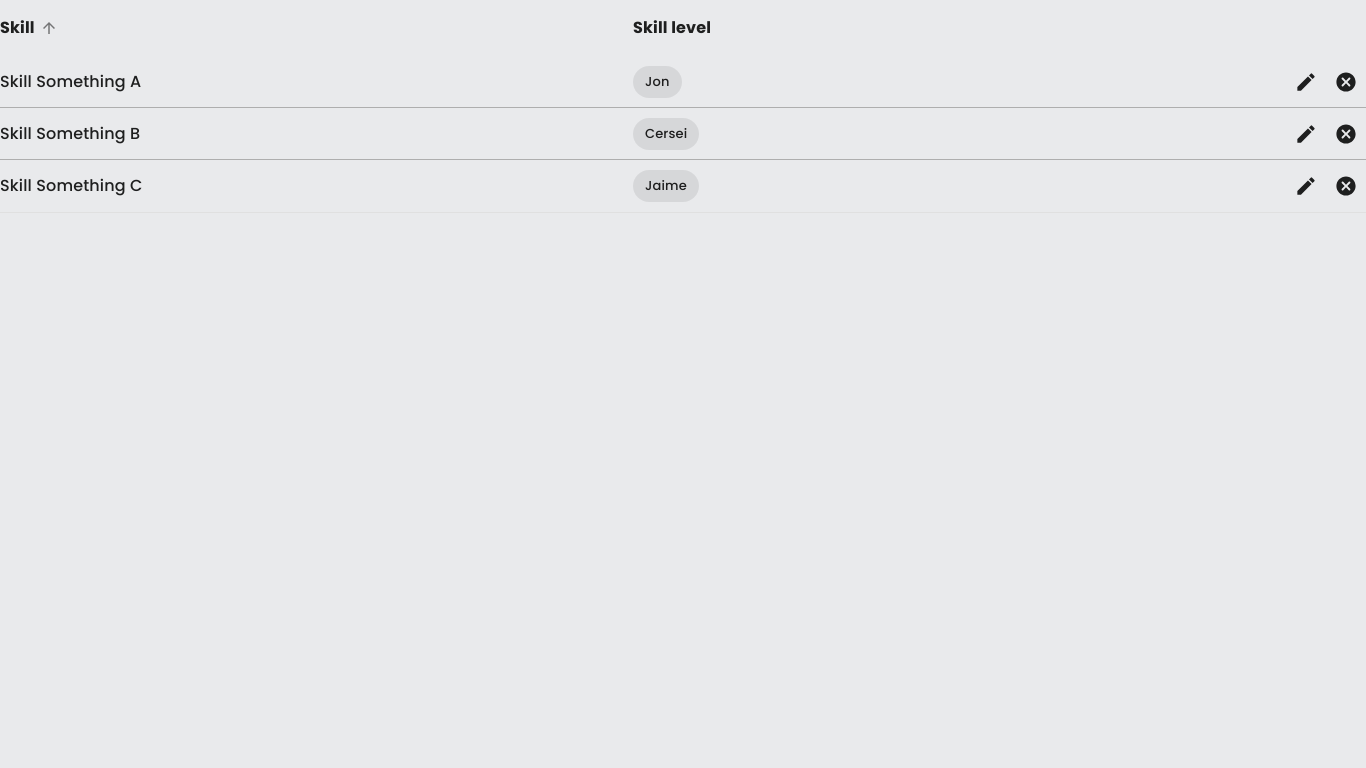
it: SkillsList › on deleting › successfully removes
Expected: the text "Skill Something A" is shown, [0,70,141,94]
Expected: the button with test id "delete-button-test2" is shown, [1334,122,1358,146]
Click the button with test id "delete-button-test1" at (1346, 82), box [1334,70,1358,94]
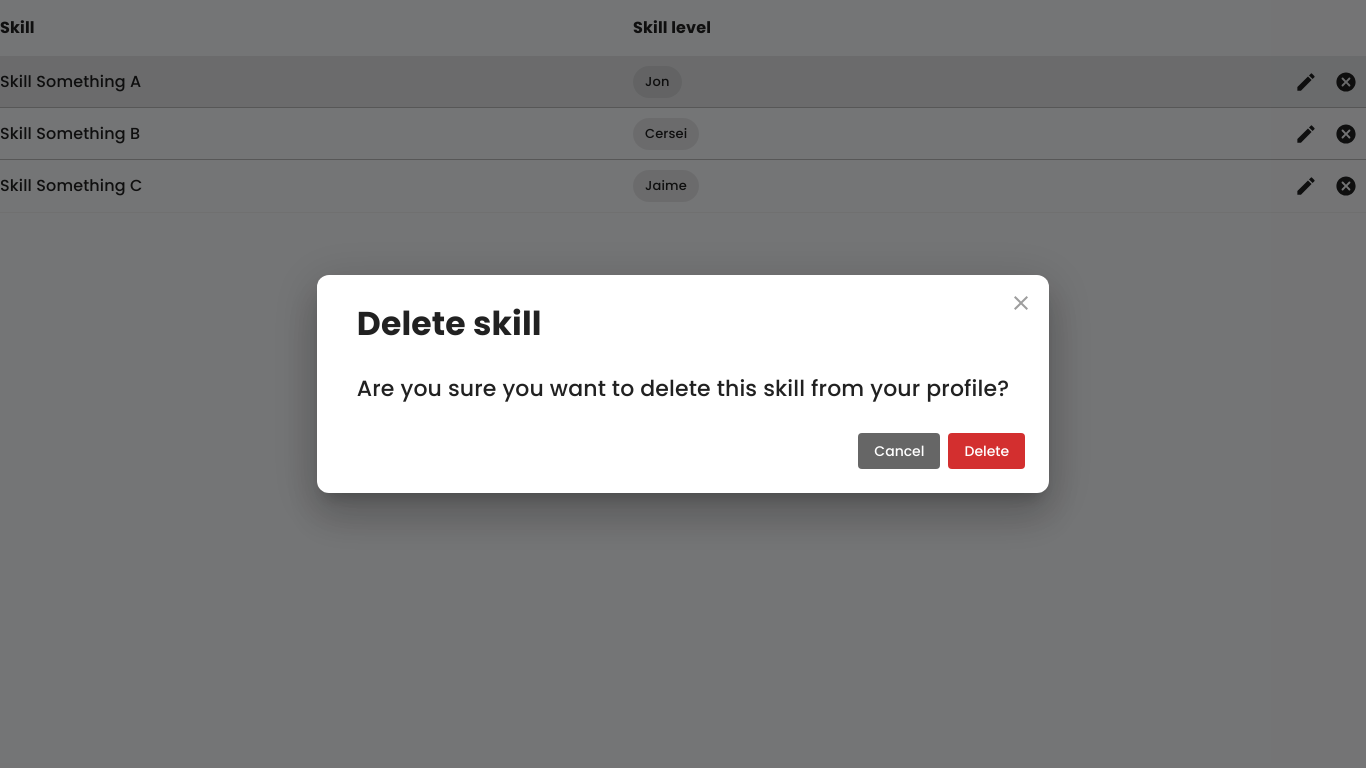
Now the element with test id "datagrid-delete-modal" is shown
Click the button "Delete" at (987, 451), box [948,433,1025,469]
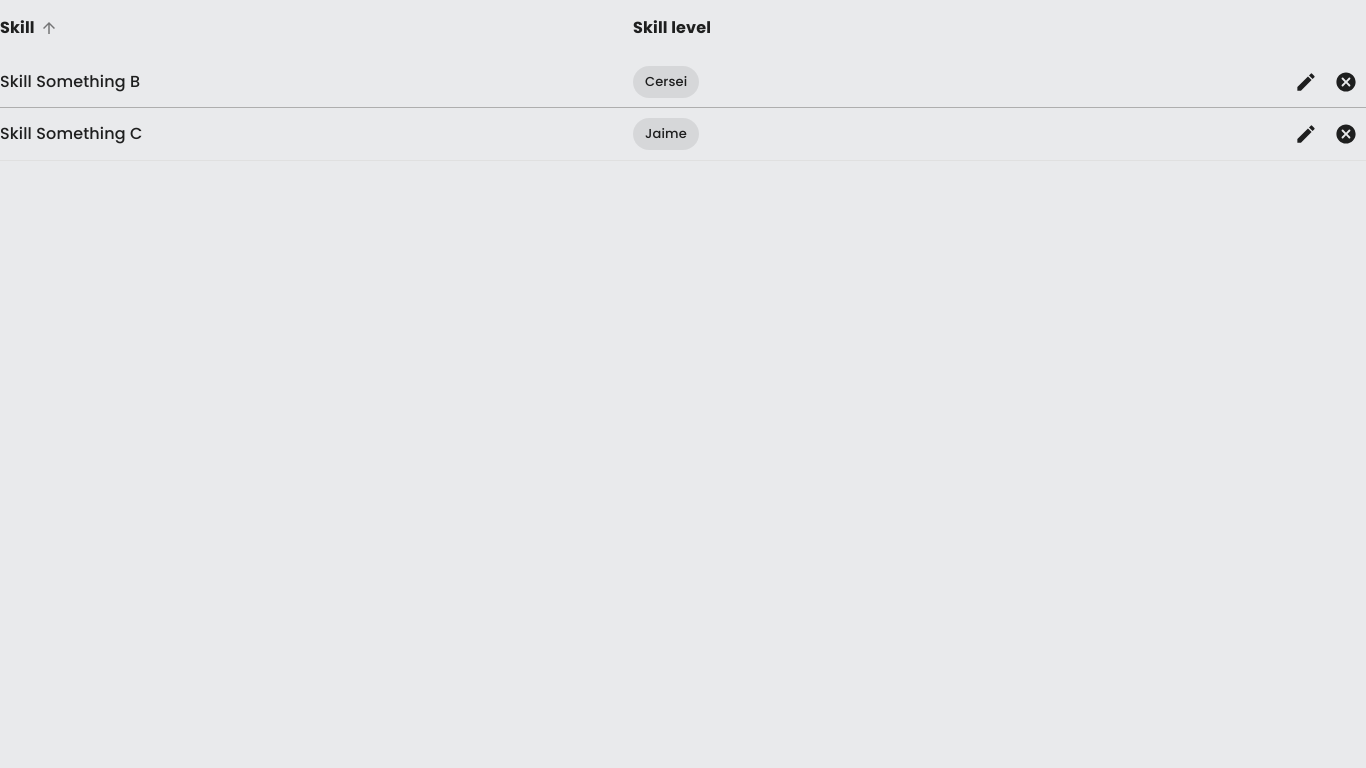
Now the text "Skill Something A" is gone
